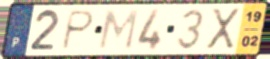2: (29, 7, 62, 53)
3: (174, 7, 207, 51)
4: (136, 8, 164, 52)
M: (97, 9, 141, 51)
P: (59, 9, 97, 52)
X: (205, 7, 242, 52)
